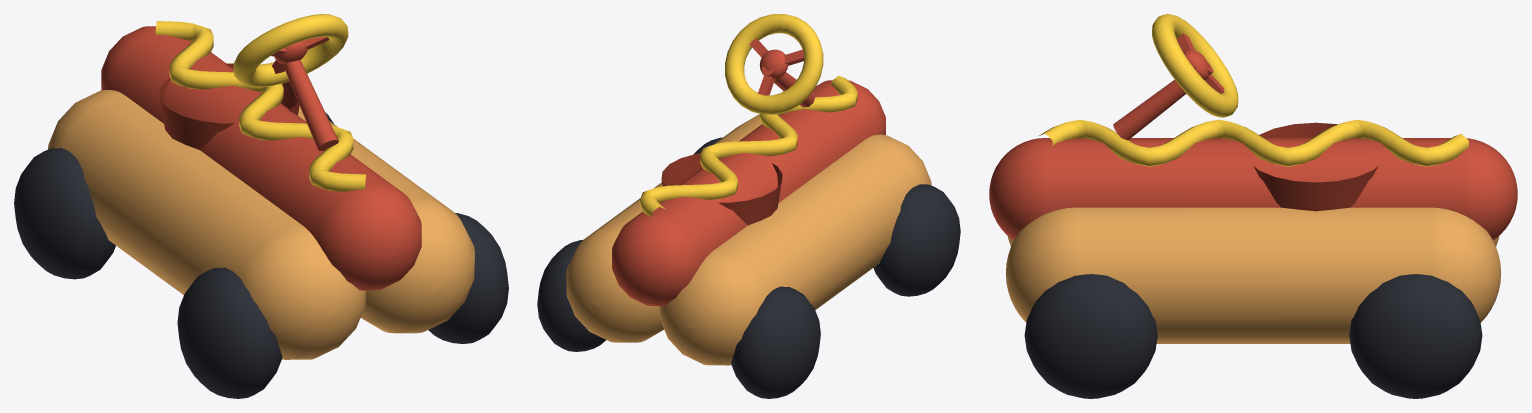
Rendered from kart-hotdog.glb.
3 renders of one model, left to right at view 1: azimuth 30°, elevation 25°; view 2: azimuth 150°, elevation 25°; view 3: azimuth 270°, elevation 25°, orthographic. The views are drawn at different scales.
Parts seen in each view (by area): view 1: kart-hotdog; view 2: kart-hotdog; view 3: kart-hotdog.
Part boxes in pixels (bbox=[...]): kart-hotdog: bbox=[14, 14, 508, 398]; kart-hotdog: bbox=[537, 14, 960, 398]; kart-hotdog: bbox=[989, 14, 1517, 398].
Bounding box in the file's own units: 1.7 × 1.7 × 2.54.
